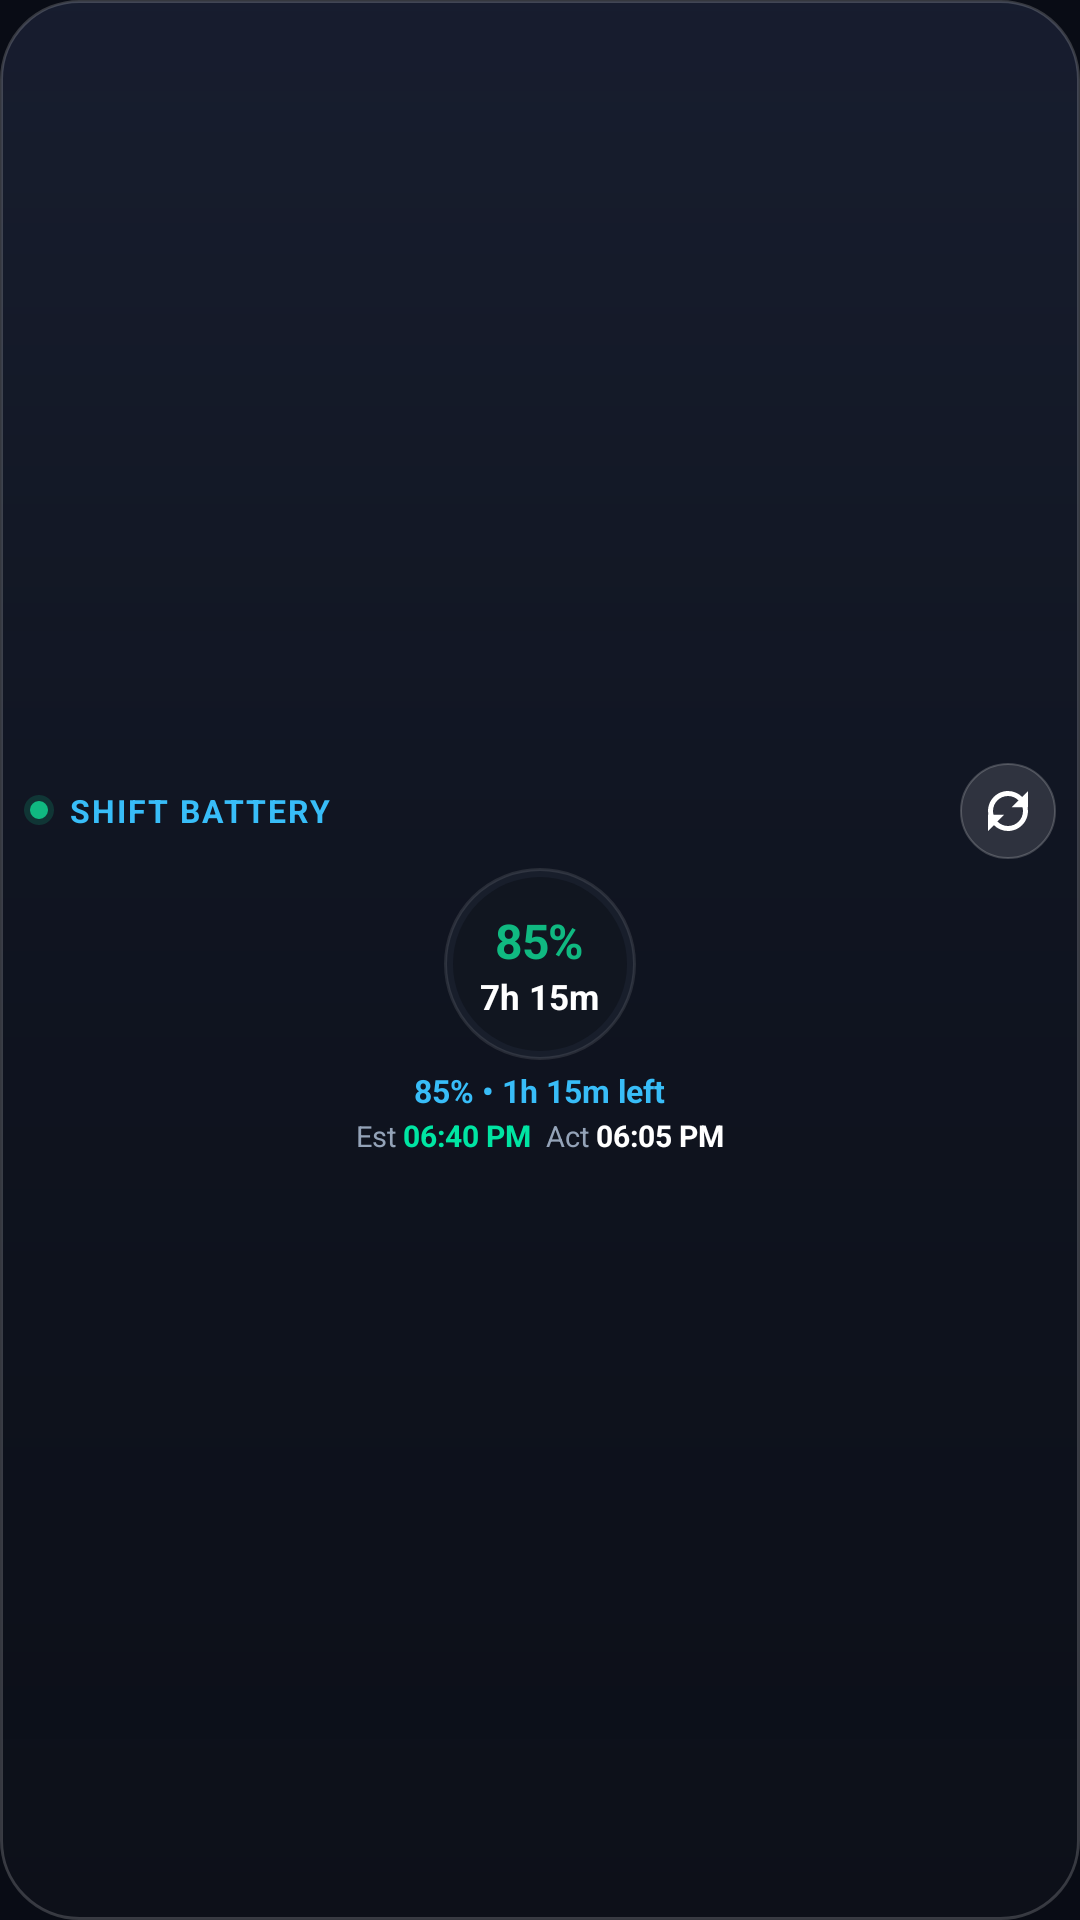

Named icons in this screenshot (1080px x 1920px) and their bounding boxes, (x1, y1, x2, y2):
Live Status Beacon: (24, 795, 54, 825)
Refresh attendance stats: (960, 763, 1056, 859)
